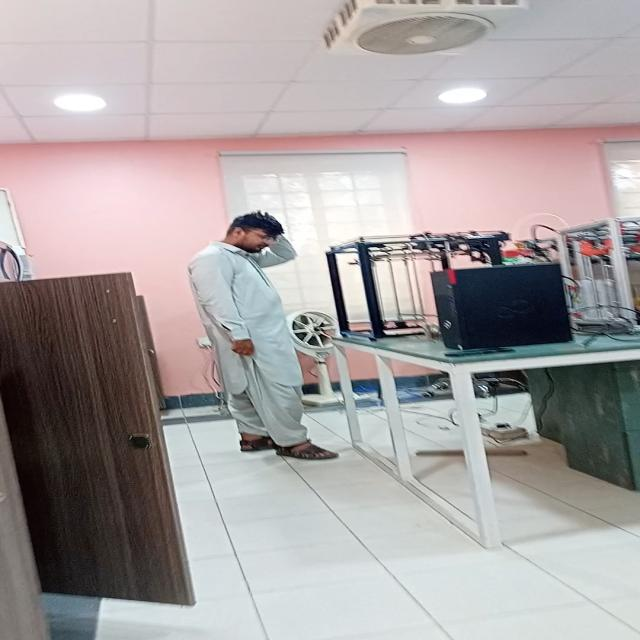dress: (185, 241, 305, 449)
